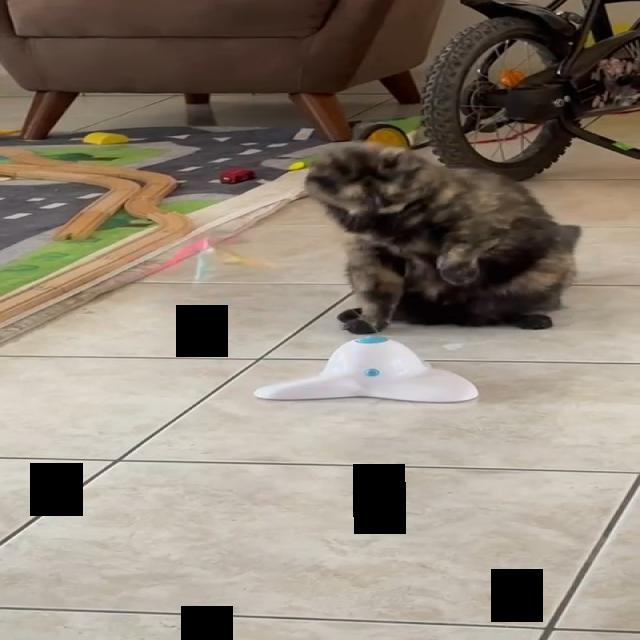authorized: (303, 142, 581, 334)
